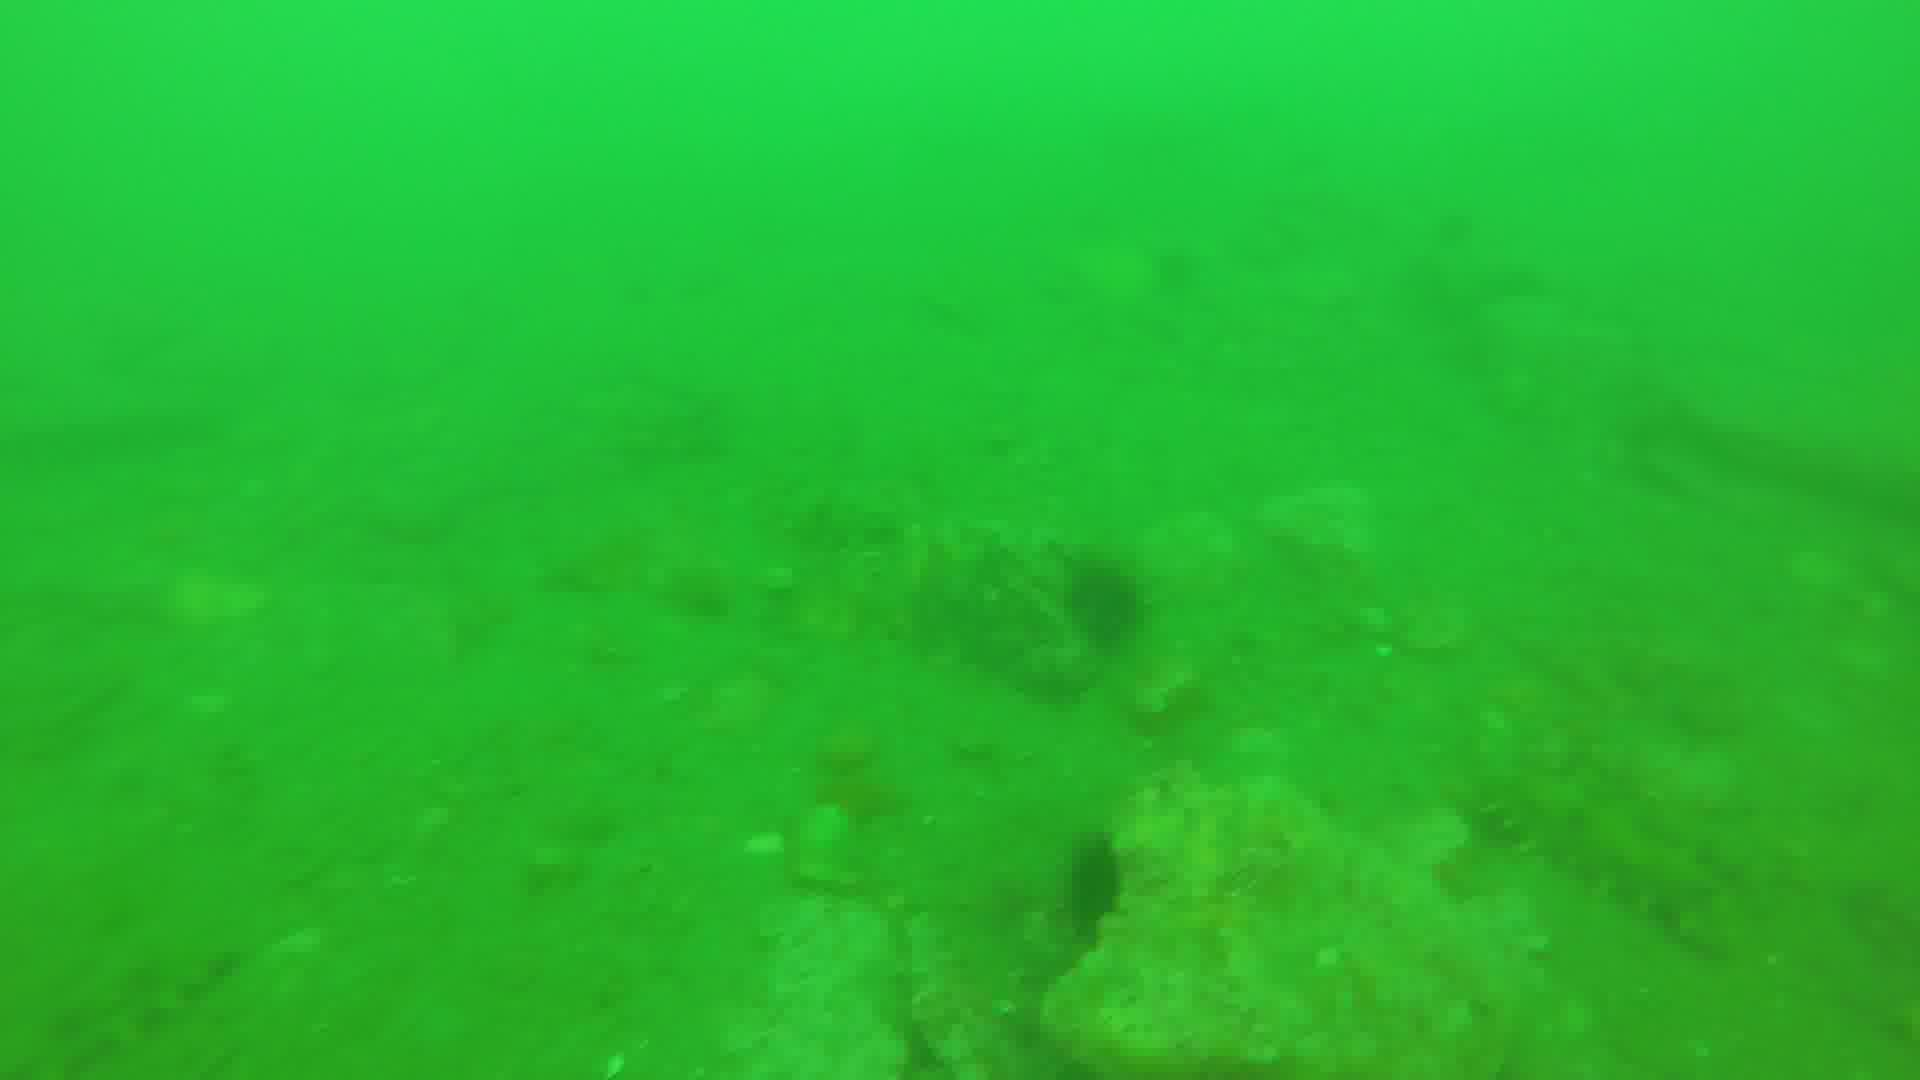echinus: (1062, 847, 1153, 942), (1062, 554, 1150, 651)
holothurian: (1468, 767, 1720, 932), (1, 943, 239, 1080)
